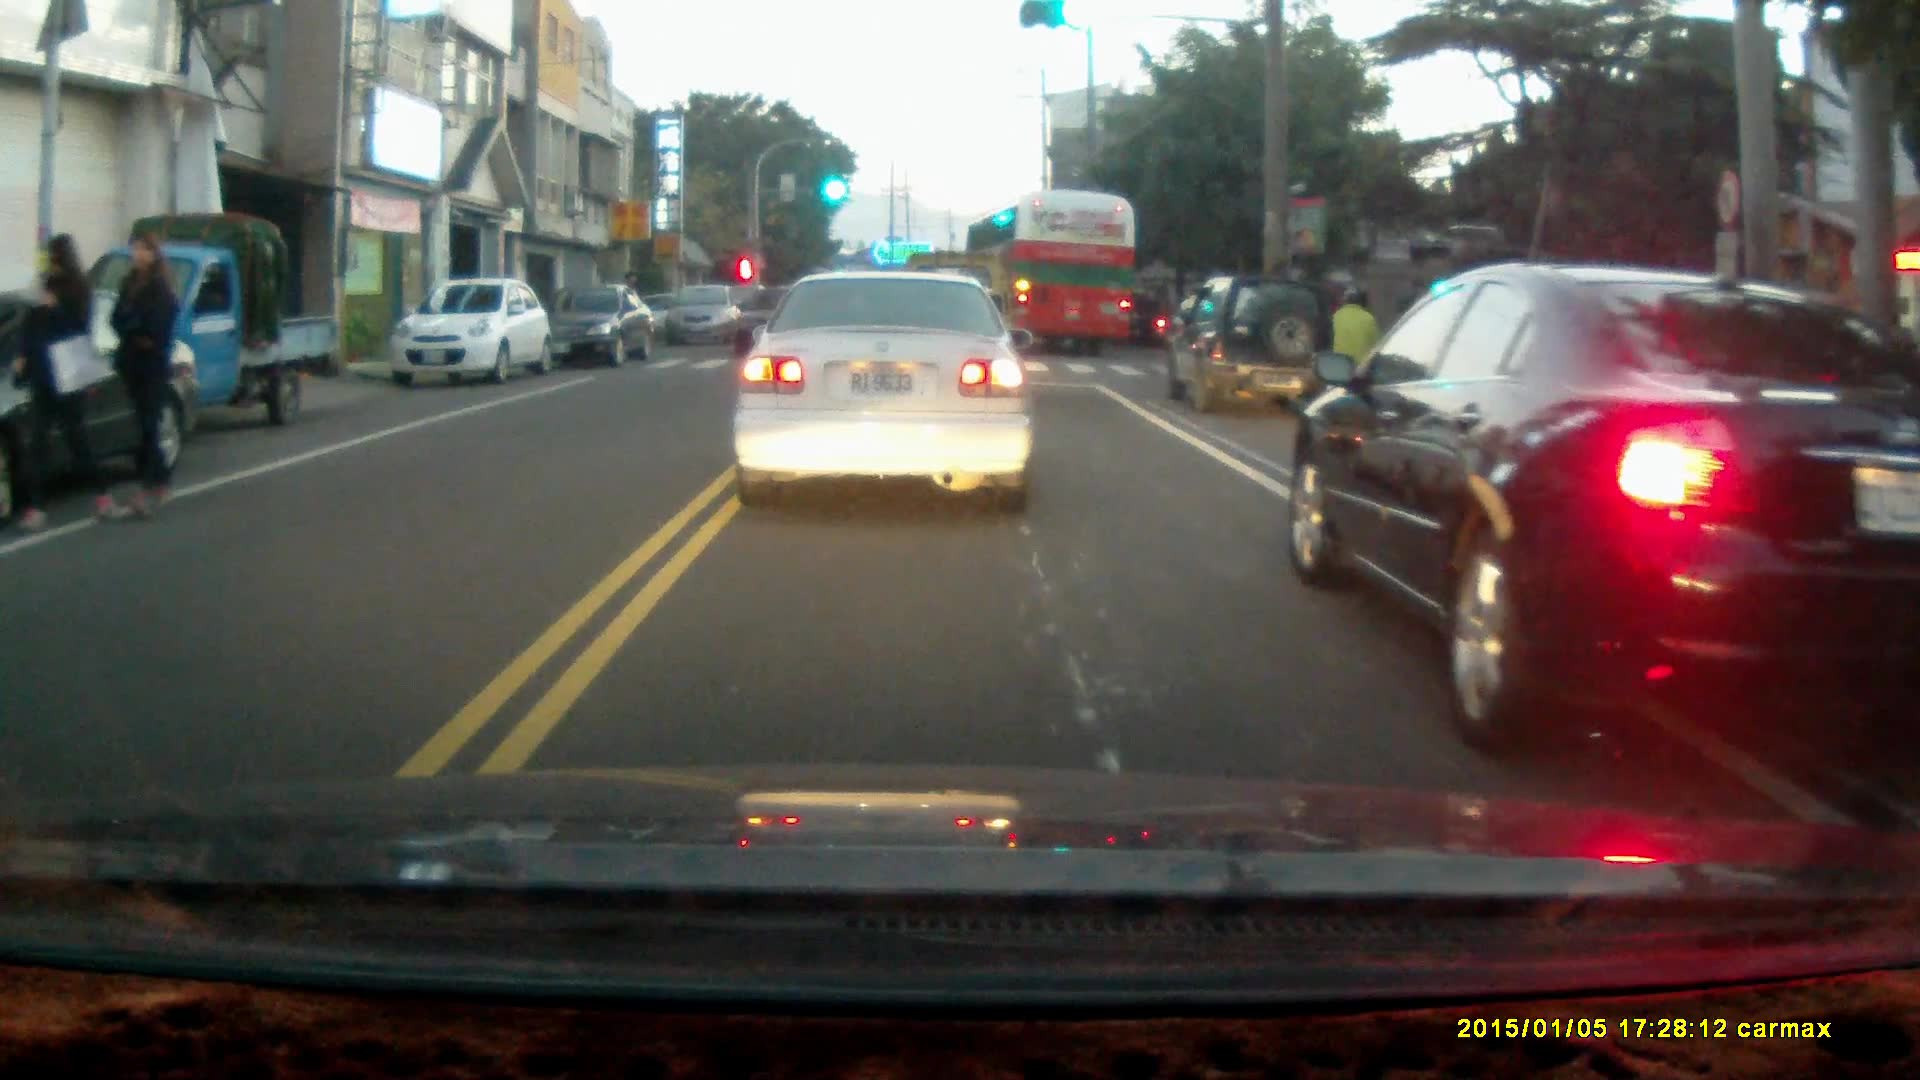pedestrian: (11, 231, 115, 528), (105, 227, 179, 520)
rider: (1323, 284, 1385, 422), (1116, 292, 1169, 350)
vehicle: (1288, 265, 1920, 753), (731, 266, 1036, 516), (79, 213, 335, 429), (1, 284, 200, 515), (963, 193, 1136, 358), (1166, 275, 1340, 420), (391, 280, 547, 388), (545, 280, 660, 370), (660, 286, 745, 353)
